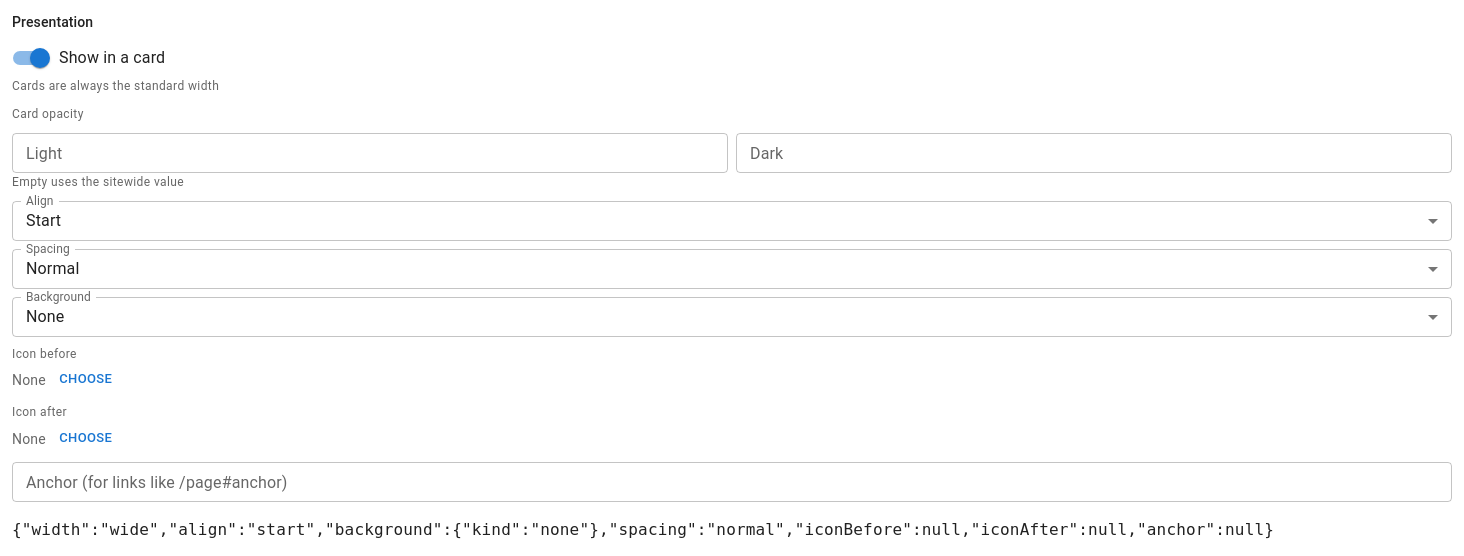
PresentationPanel: Width shows only with the card off › shows Width once the card is turned off
Click the switch. click: (89, 58)
box: [13,48,165,68]
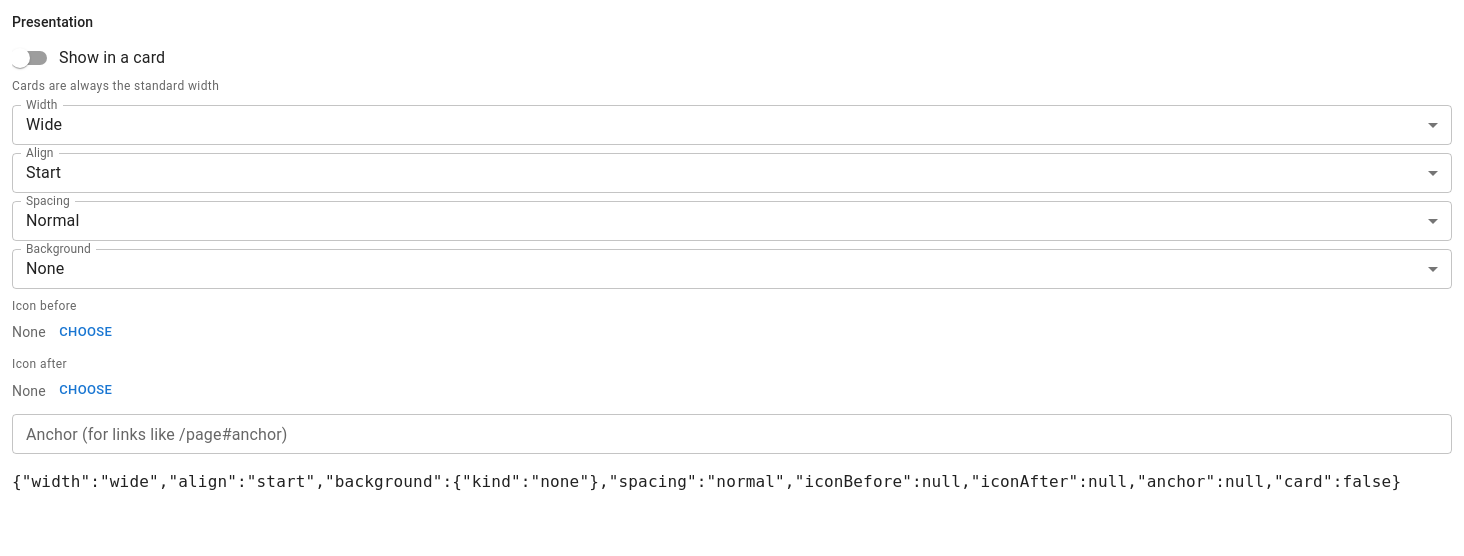
Expected: the element with test id "presentation-width" is shown, [12,105,1452,145]
